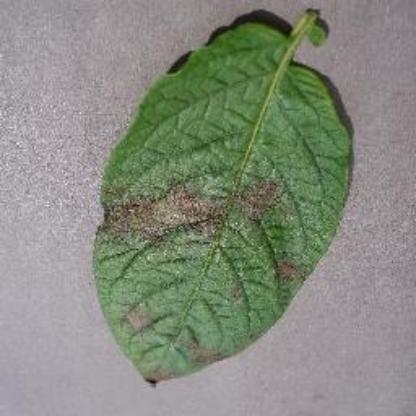Late-Blight: (76, 20, 358, 388)
